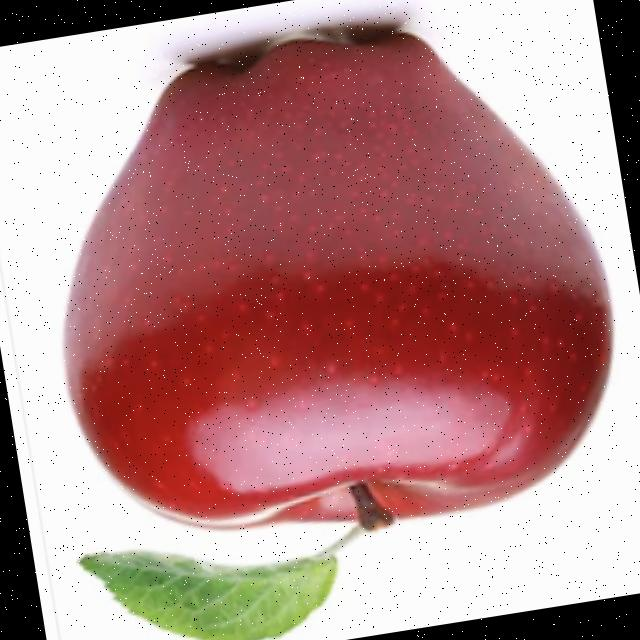Ripe: (11, 0, 640, 578)
